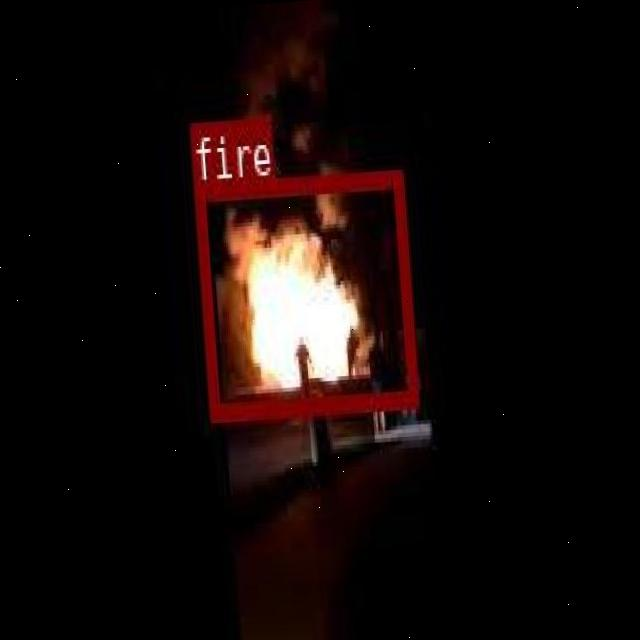fire: (193, 169, 416, 419)
